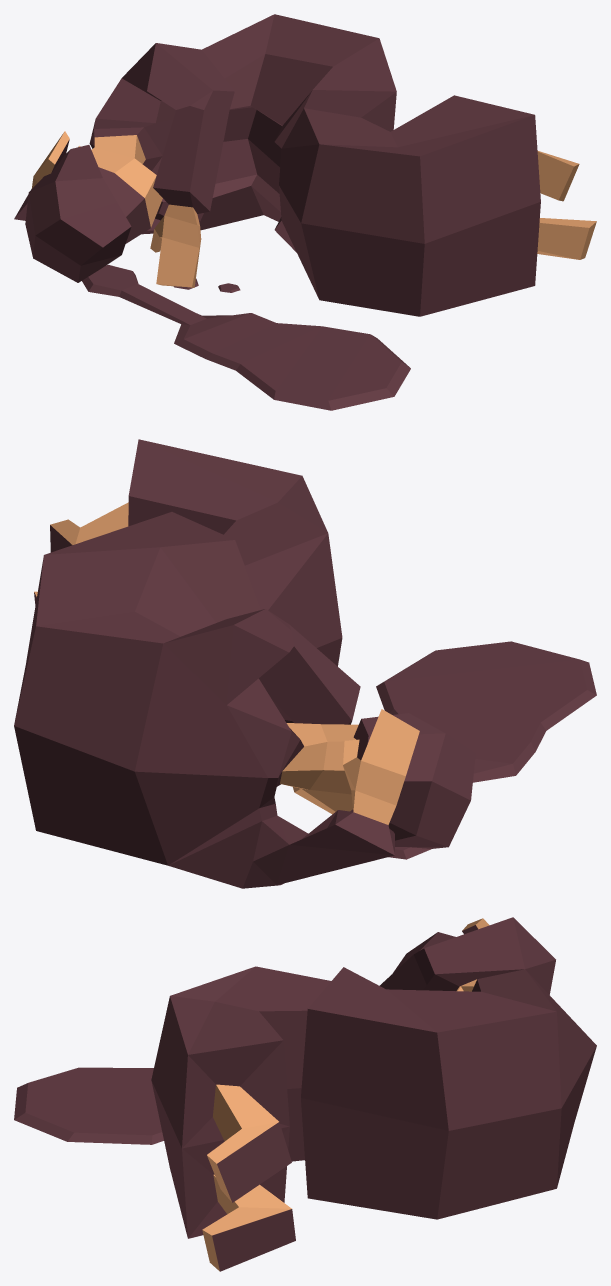
File: man-samurai-black-dead-a.fbx
3 views of the same model, one above another, from view 1: azimuth 30°, elevation 25°; view 2: azimuth 150°, elevation 25°; view 3: azimuth 270°, elevation 25° (orthographic). The views are drawn at different scales.
Parts seen in each view (by area): view 1: man-samurai-black-dead-a; view 2: man-samurai-black-dead-a; view 3: man-samurai-black-dead-a.
Boxes of the visible parts, left/top/right/bottom form: man-samurai-black-dead-a: left=14, top=14, right=596, bottom=410; man-samurai-black-dead-a: left=14, top=439, right=596, bottom=888; man-samurai-black-dead-a: left=14, top=917, right=596, bottom=1271.
Size of the model in its own units: 1.14 by 0.461 by 1.17.
